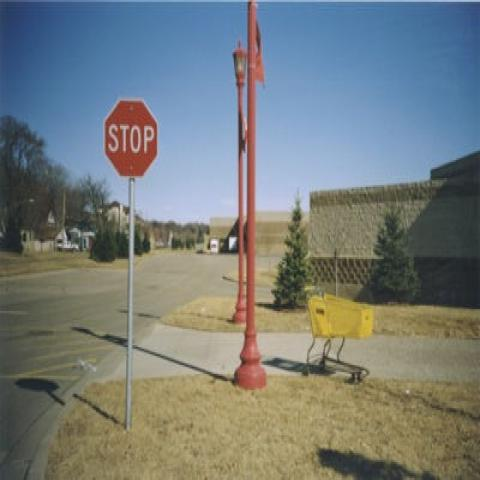car: (54, 225, 82, 252)
